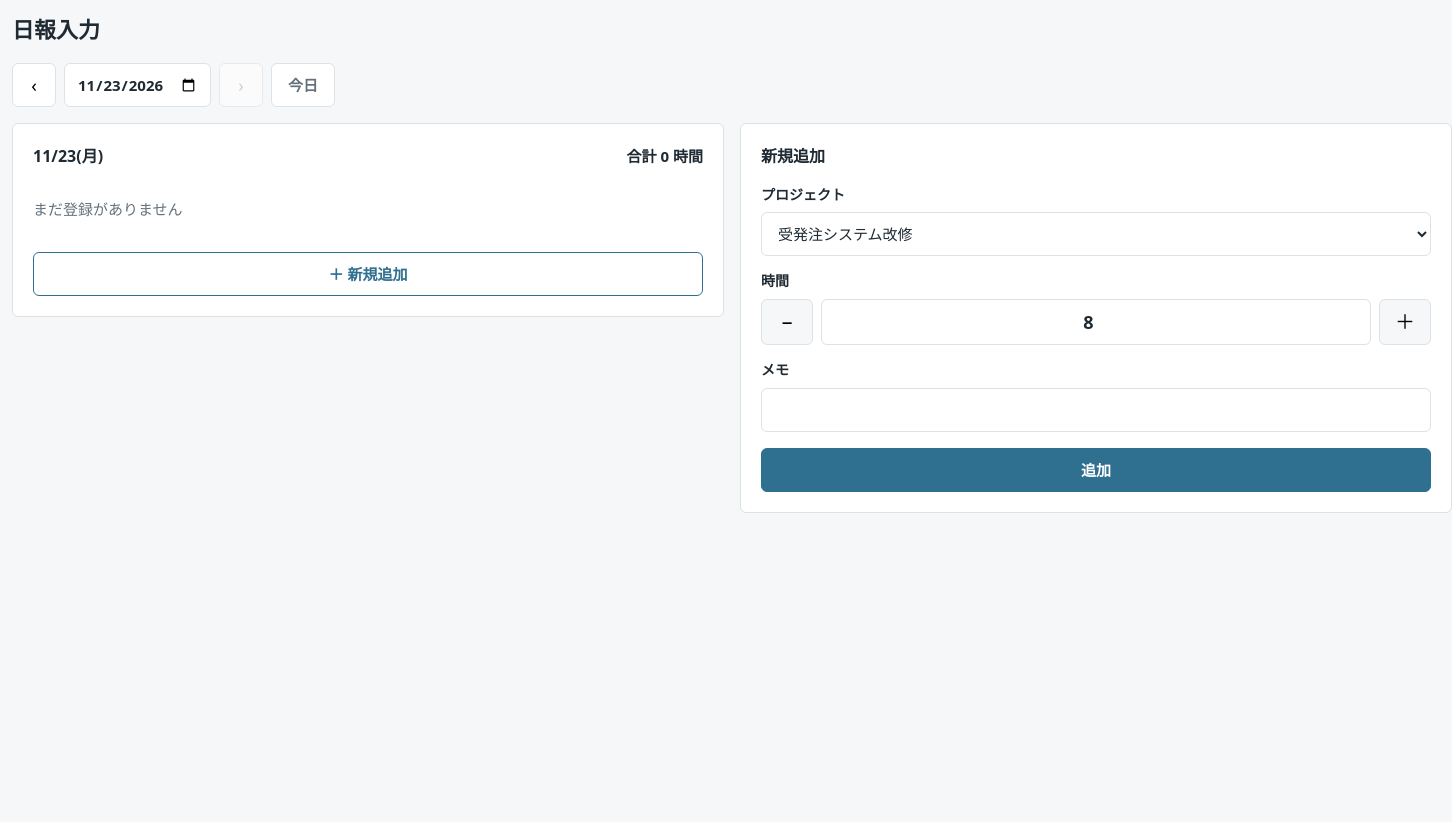
Test: 新規追加 › 時間を入れて追加すると、左の一覧と合計に出る
Select "社内ポータル" in the dropdown labelled "プロジェクト" at (1096, 234), box [761,212,1431,256]
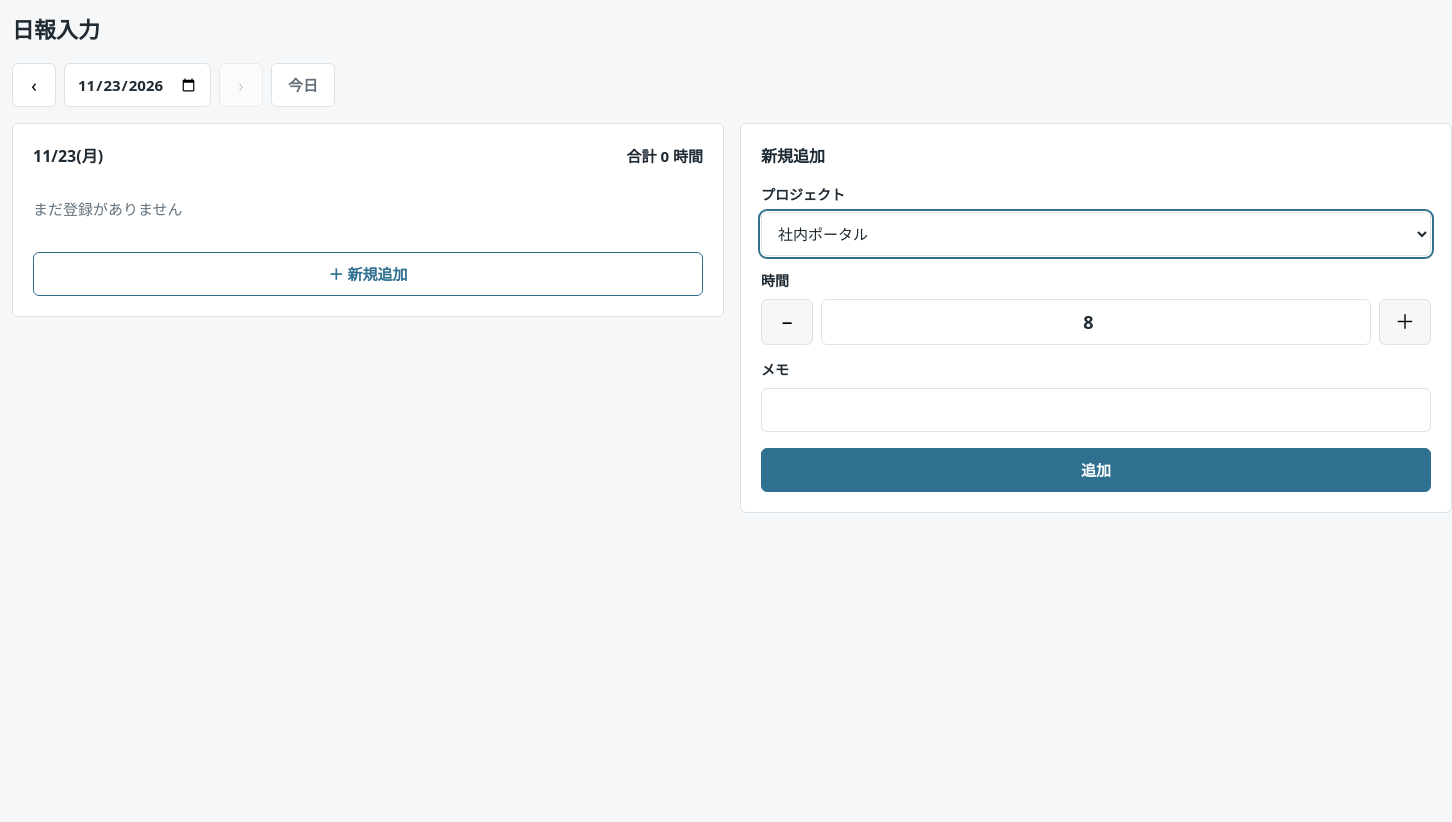
Replace the text in the number field labelled "時間" with "3.5" at (1096, 322), box [821,299,1371,345]
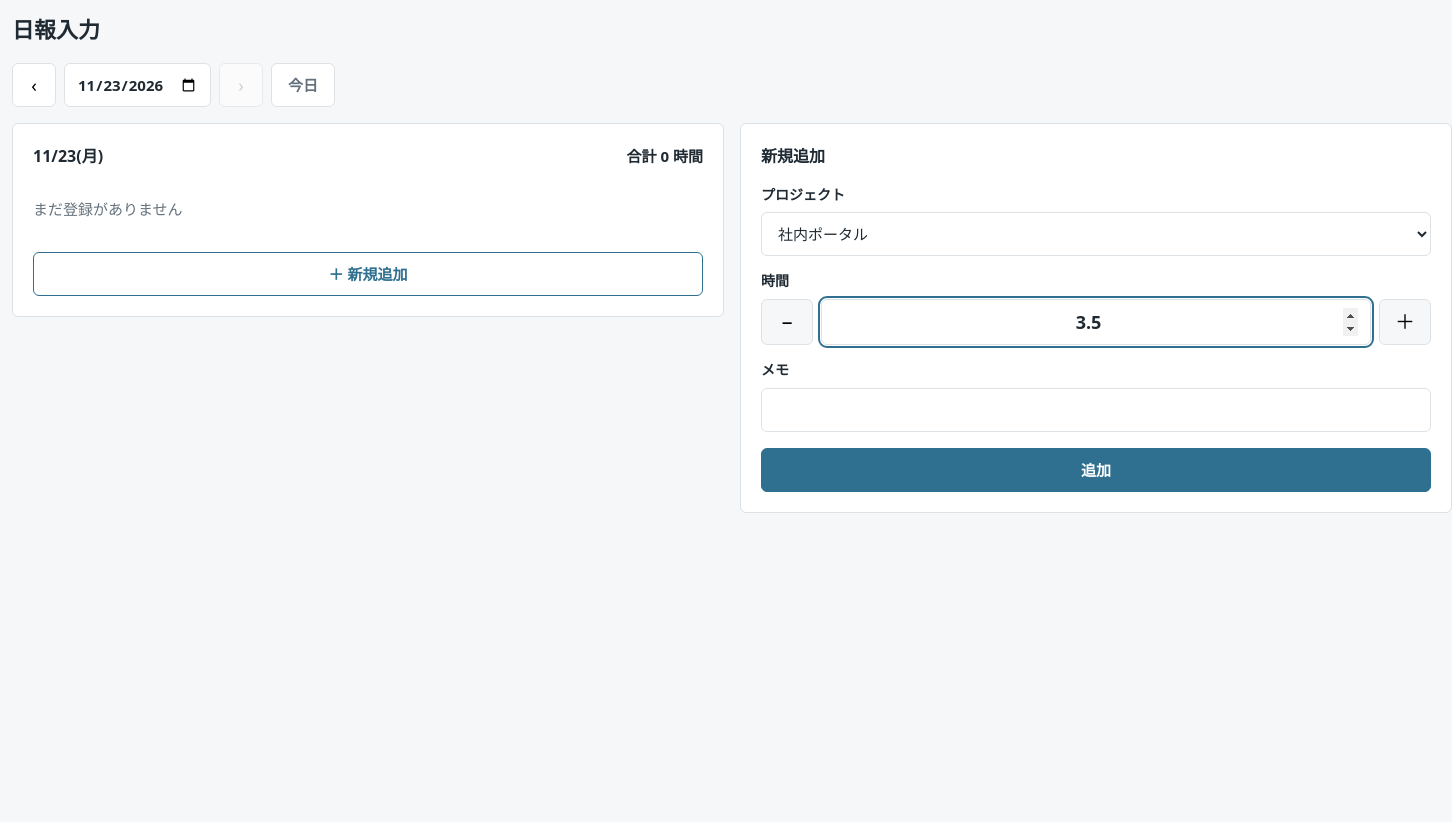
Type "レビュー" into the field labelled "メモ" at (1096, 410), box [761,388,1431,432]
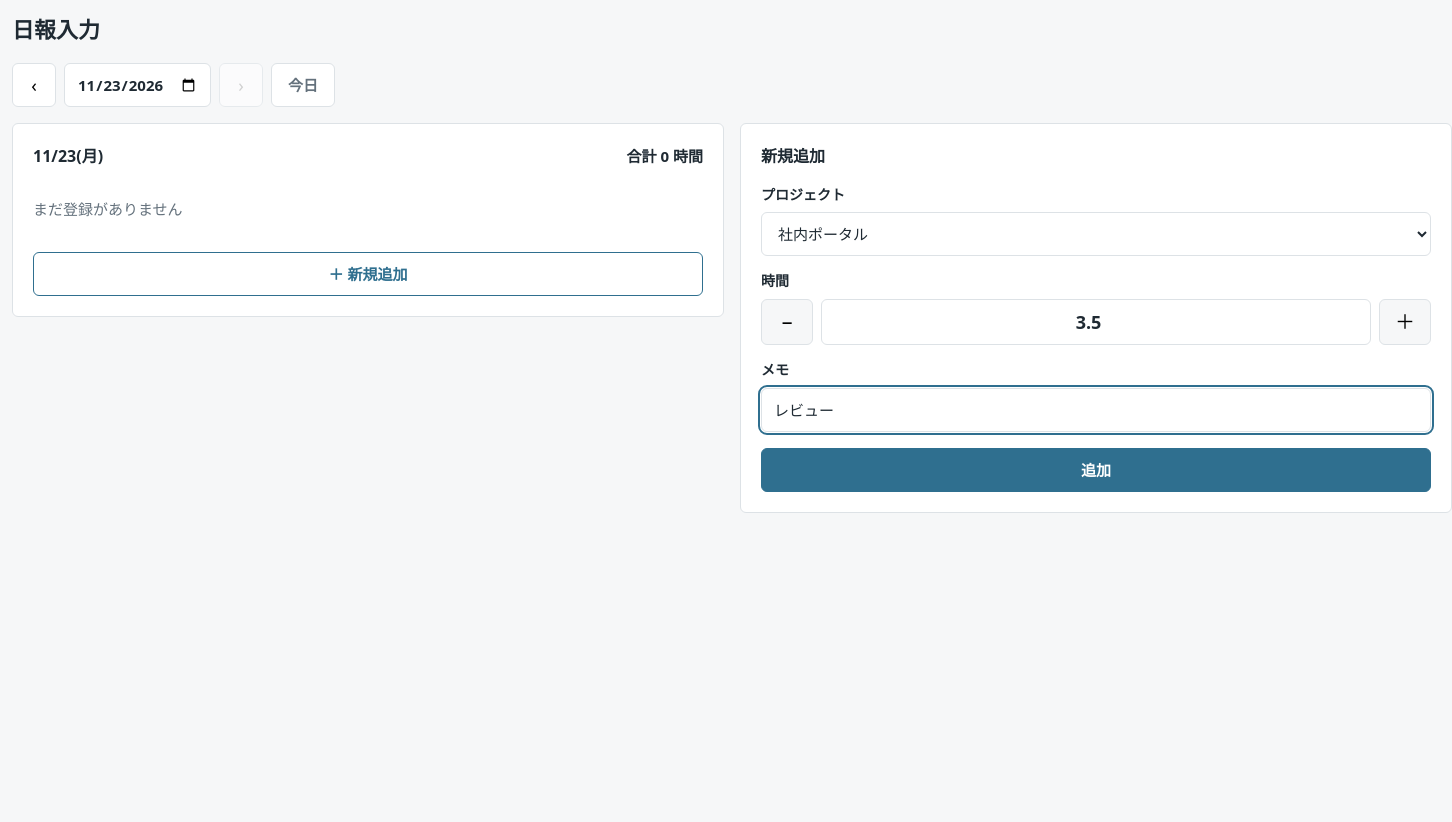
Click the button "追加" at (1096, 470), box [761,448,1431,492]
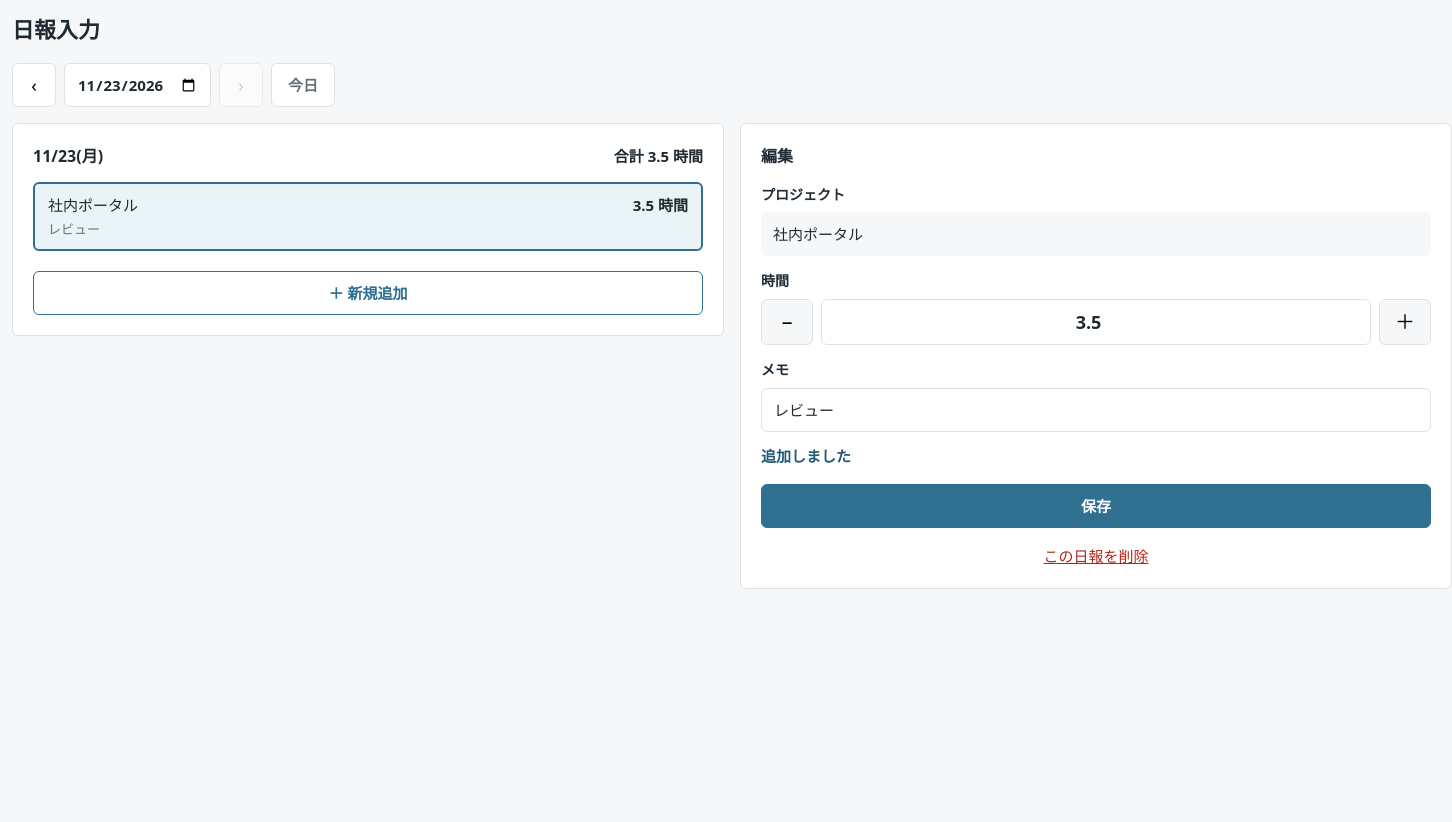
Check: the text "社内ポータル" below "11/23(月)" is shown, box [48,195,138,215]
Check: the text "合計 3.5 時間" is shown, box [614,144,703,168]
